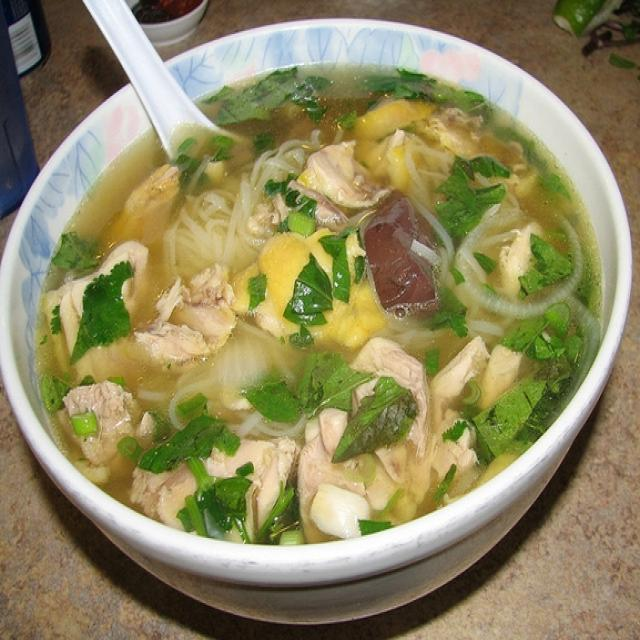面条主食: (23, 27, 616, 588)
